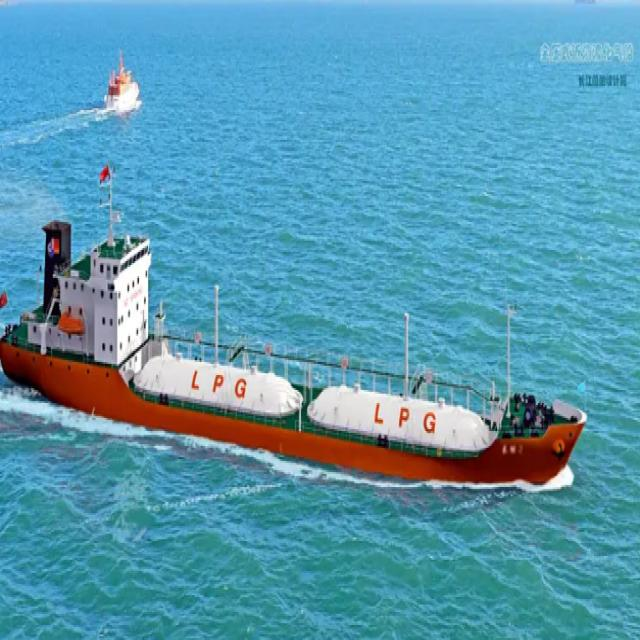cargoship: (0, 157, 589, 492), (105, 47, 142, 112)
